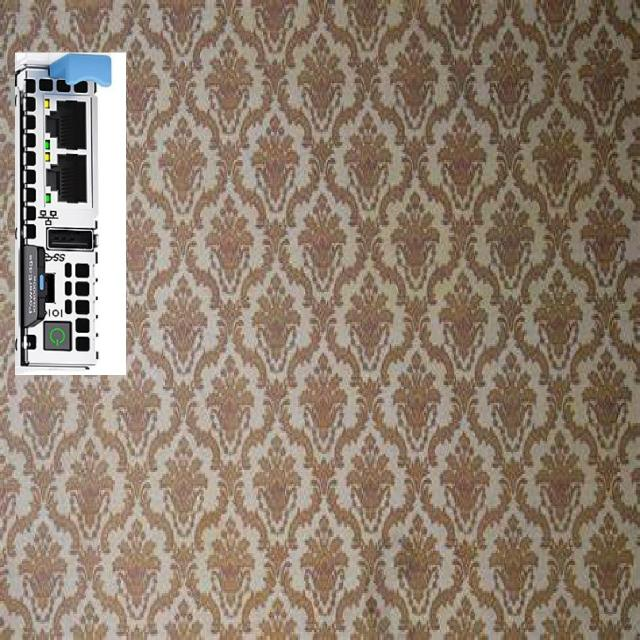Server: (15, 52, 126, 374)
